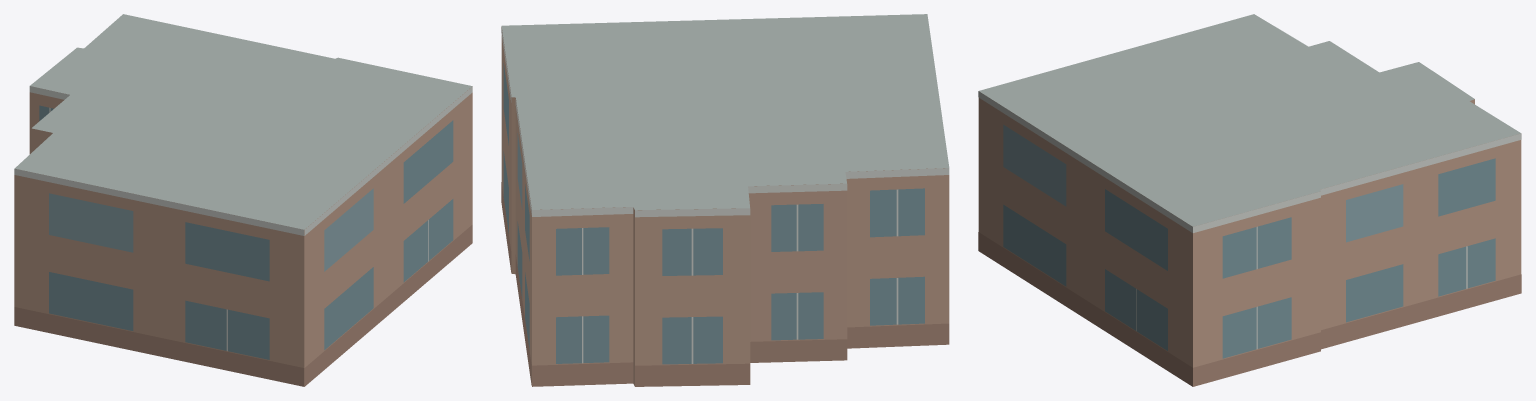
The model's file is survey-upis-32625511.glb.
The picture shows the model from 3 angles, left to right: view 1: azimuth 30°, elevation 25°; view 2: azimuth 150°, elevation 25°; view 3: azimuth 270°, elevation 25°; orthographic projection. The views are drawn at different scales.
Visible parts, largest first — view 1: survey-upis-32625511.tmp; view 2: survey-upis-32625511.tmp; view 3: survey-upis-32625511.tmp.
Boxes of the visible parts, x1,y1,x2,y2 form: survey-upis-32625511.tmp: (14,14,472,386); survey-upis-32625511.tmp: (501,14,949,386); survey-upis-32625511.tmp: (978,14,1521,386).
Size of the model in its own units: 17.41 by 6.1 by 18.76.
